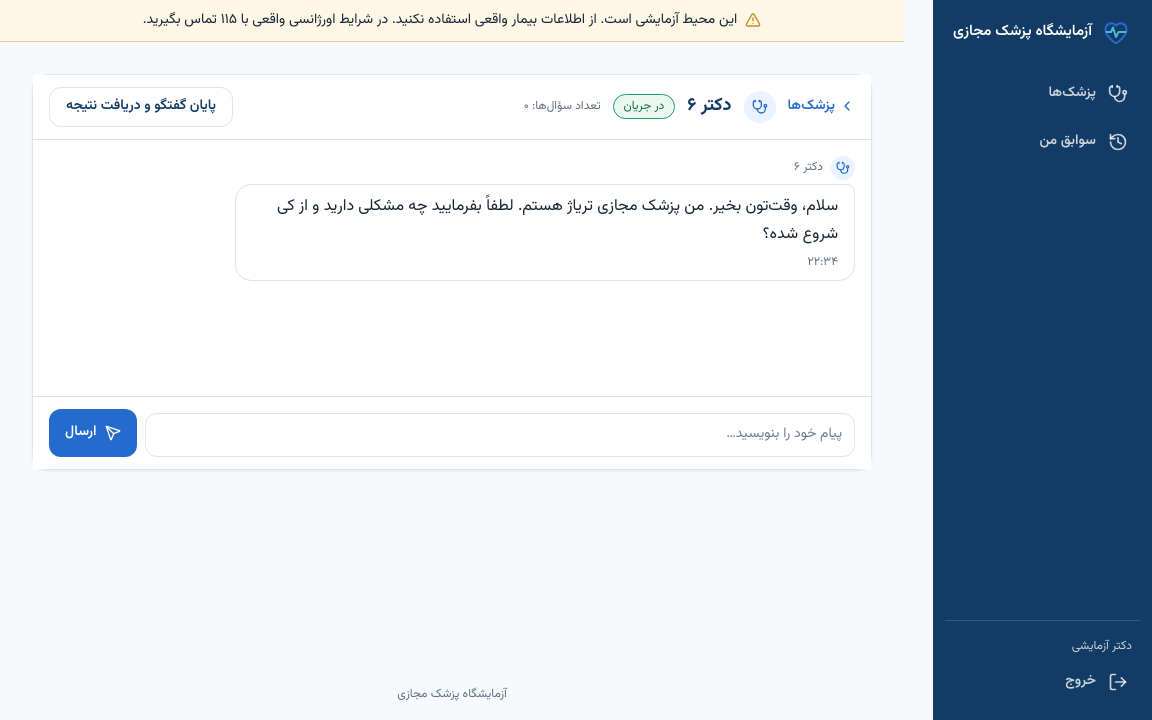
Scenario: chat › shows the 409 toast and restores the text when the turn was rejected
The width and height of the screenshot is (1152, 720).
Expected: the text "تعداد سؤال‌ها: ۰" is shown, 524,97 -> 601,116
Type "پیام دوم" into the text box labelled "پیام خود را بنویسید…" at (500, 434), box 145,412 -> 855,456
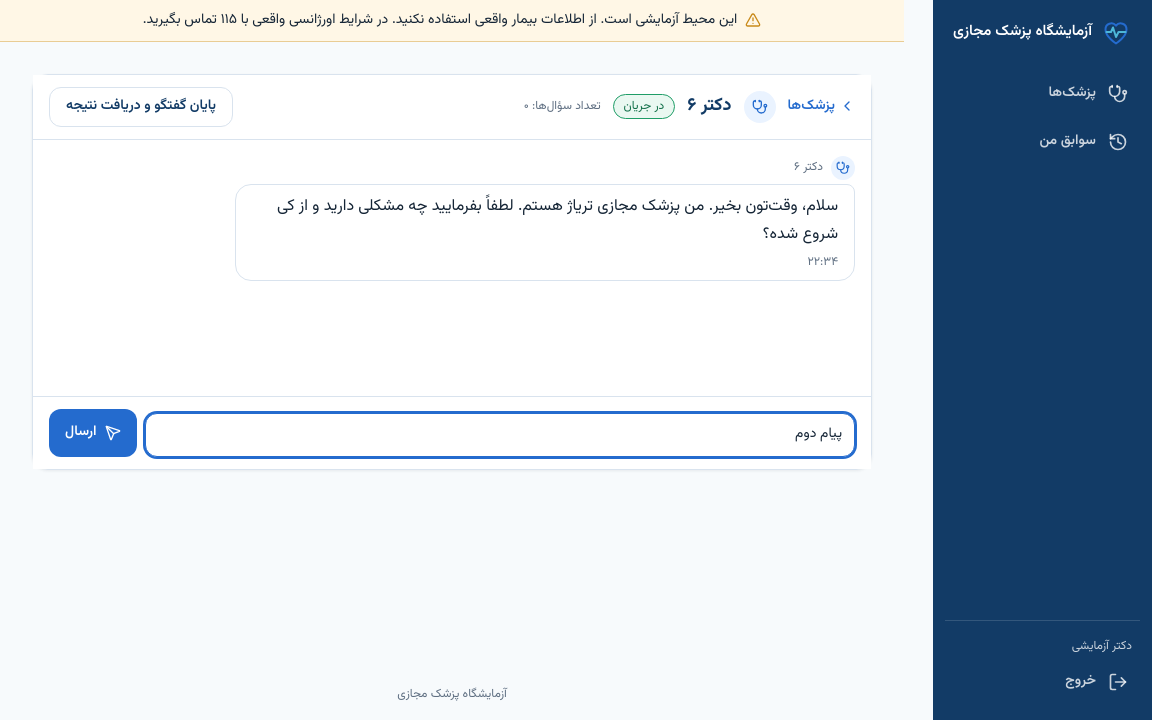
Click the button "ارسال" at (93, 432), box 49,408 -> 137,456
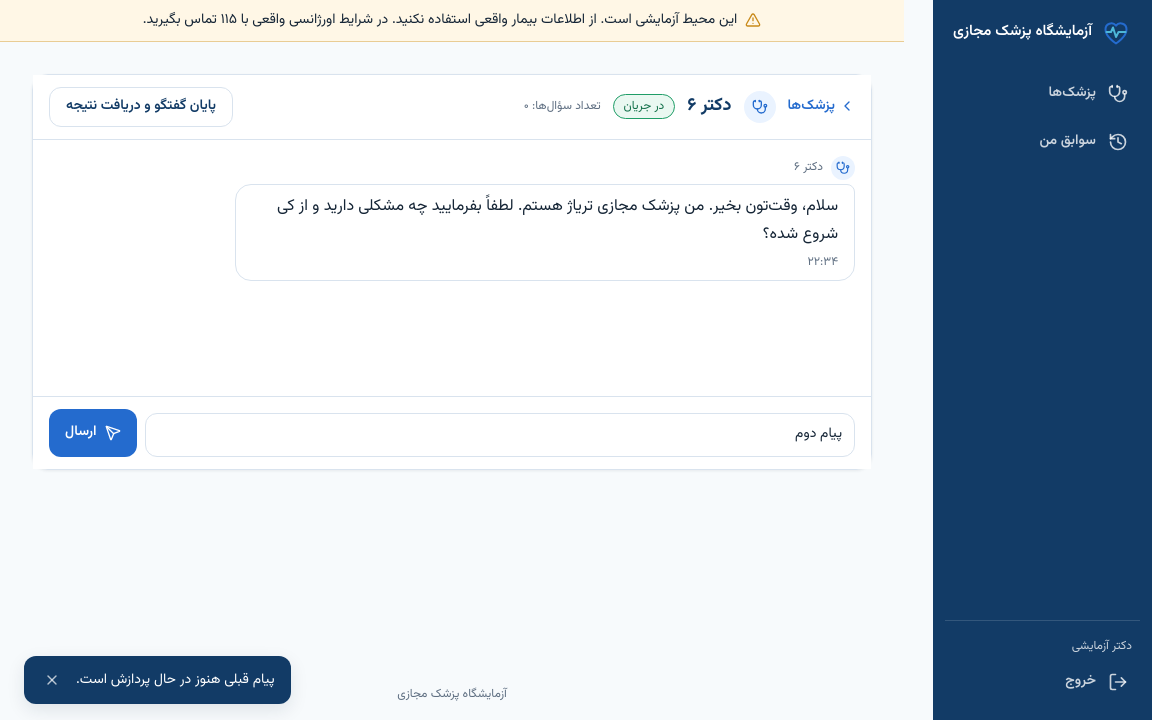
Expected: the message with test id "toast" reads "پیام قبلی هنوز در حال پردازش است.", 76,668 -> 275,690
